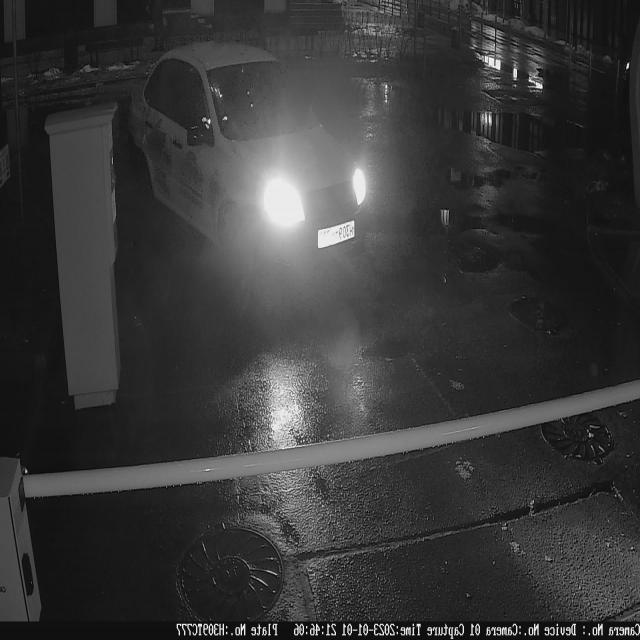car-plate-numbers: (315, 216, 358, 253)
